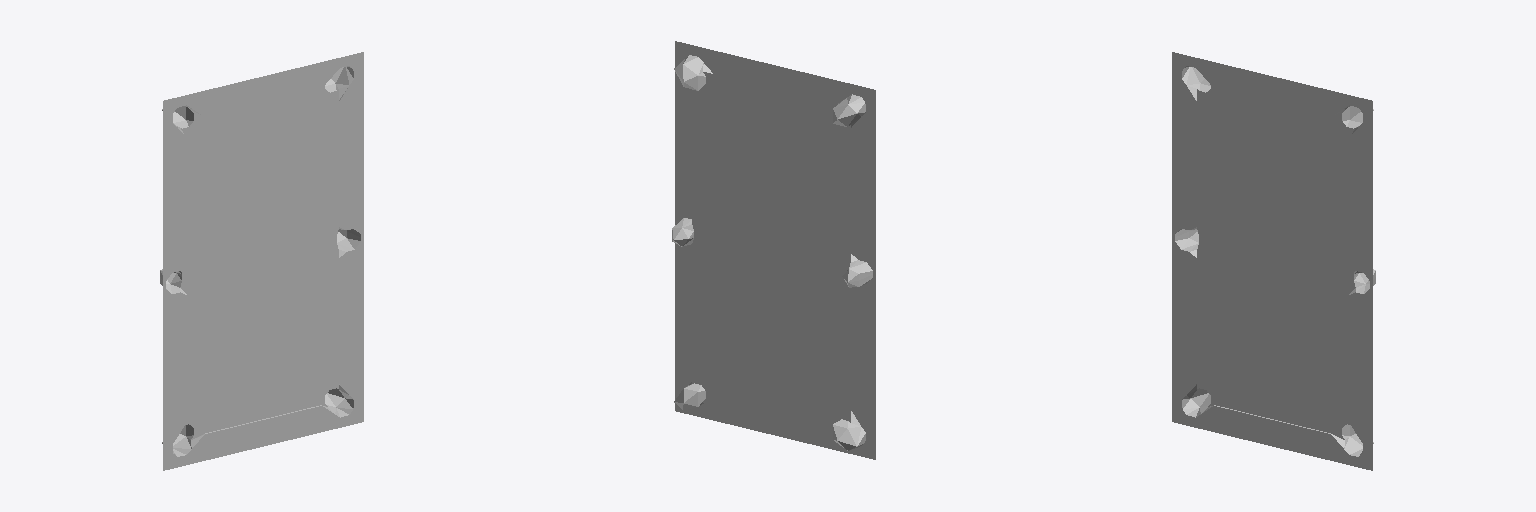
File: table.obj
The picture shows the model from 3 angles: view 1: azimuth 30°, elevation 25°; view 2: azimuth 150°, elevation 25°; view 3: azimuth 330°, elevation 25°; orthographic projection.
Parts seen in each view (by area): view 1: table_Cube.002; view 2: table_Cube.002; view 3: table_Cube.002.
Part boxes in pixels (left/top/right/bottom): table_Cube.002: left=160, top=52, right=363, bottom=470; table_Cube.002: left=672, top=41, right=875, bottom=459; table_Cube.002: left=1172, top=52, right=1375, bottom=470.
Bounding box in the file's own units: 41.2 × 72.4 × 5.28.